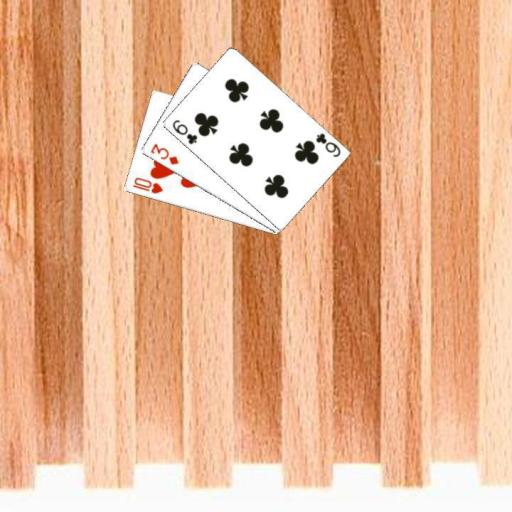card-corner: (168, 116, 198, 146), (312, 130, 342, 159), (147, 140, 180, 166), (130, 174, 164, 196)
